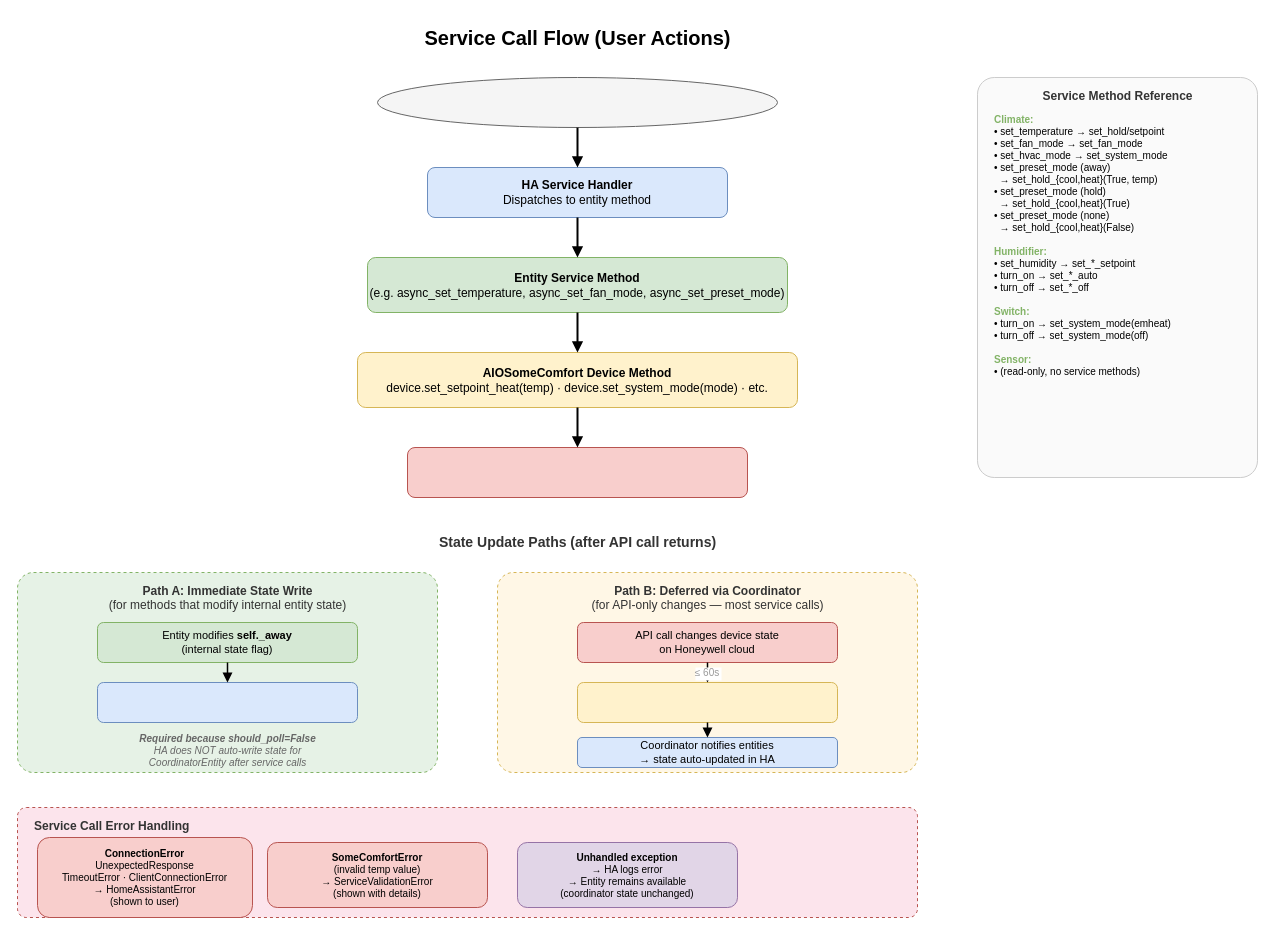
Image size: 1275x935. Some labels were removed from this diagram. The shapes that lost their labels are listed below. From the top down, each one's box as (x1, y1, x2, y2) in pixels, then its label:
(376, 76, 778, 128): User Action HA UI button · Automation · Script · Service call
(406, 446, 748, 498): HTTP POST → Honeywell Cloud API Device state updated on cloud
(96, 682, 358, 722): self.async_write_ha_state() Pushes state to HA immediately
(576, 682, 838, 722): Next coordinator refresh device.refresh() fetches new state
